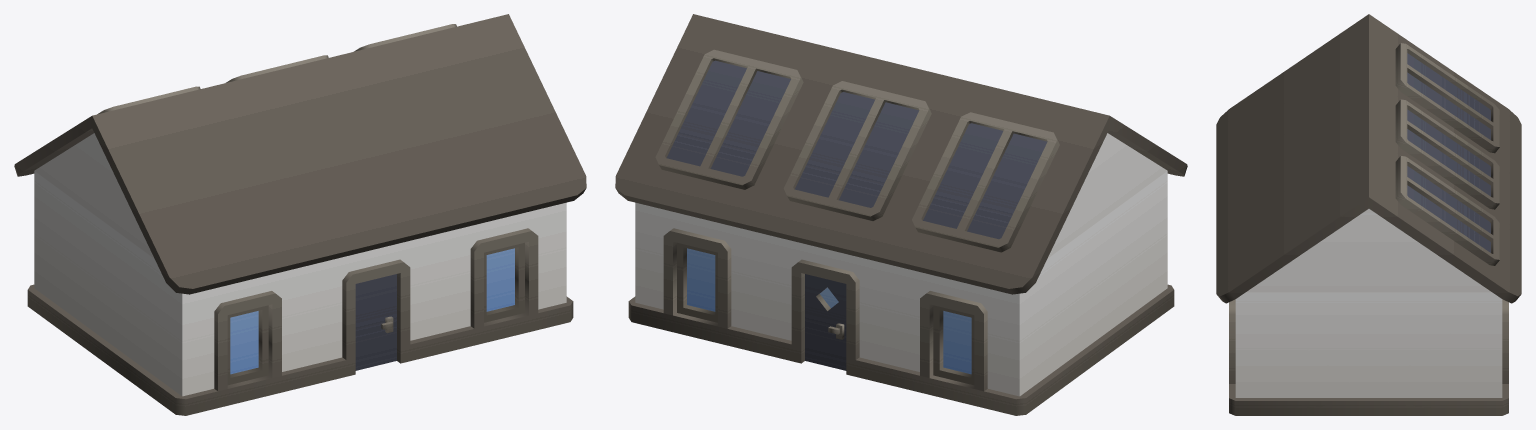
The model's file is sub-building-type-h.glb.
3 views of the same model, side by side, from view 1: azimuth 30°, elevation 25°; view 2: azimuth 150°, elevation 25°; view 3: azimuth 270°, elevation 25° (orthographic). The views are drawn at different scales.
Visible parts, largest first — view 1: building-type-h; view 2: building-type-h; view 3: building-type-h.
Boxes of the visible parts, x1,y1,x2,y2 form: building-type-h: [14, 14, 586, 415]; building-type-h: [615, 14, 1187, 415]; building-type-h: [1216, 14, 1521, 415].
Bounding box in the file's own units: 1.3 × 0.7375 × 0.9161.
Materials: 1 (1 with a texture image).
